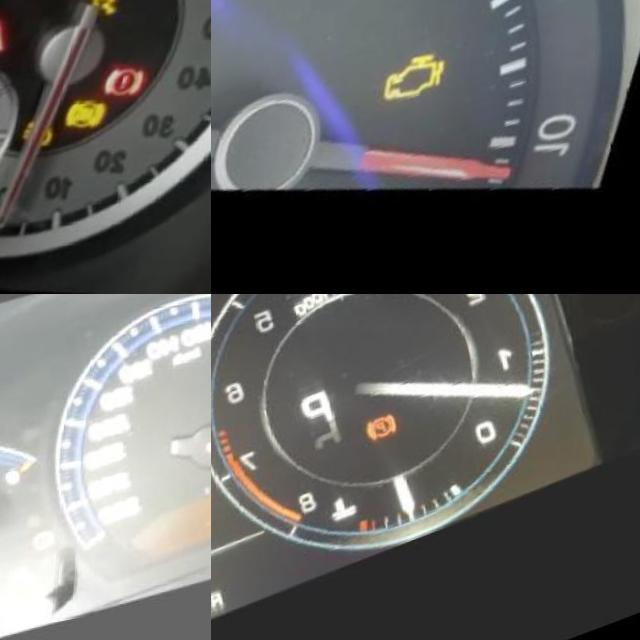Engine cooling system: (329, 505, 365, 543)
